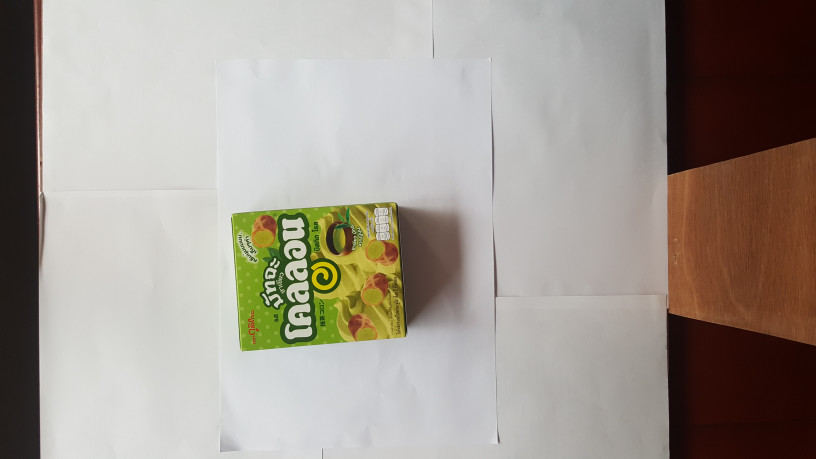collon-matcha: (231, 202, 409, 353)
